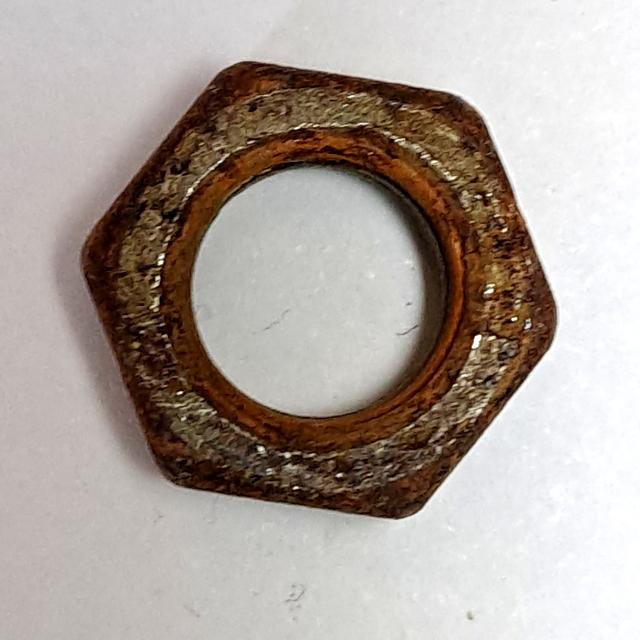Rust: (66, 51, 578, 531)
